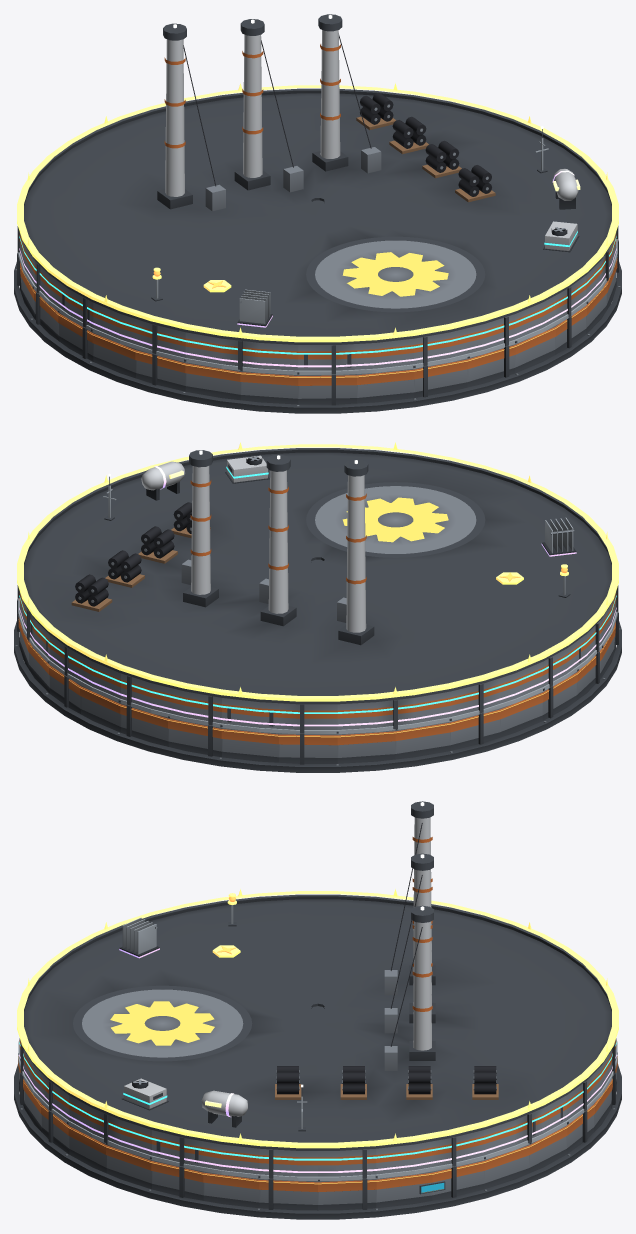
Rendered from carbon_works_xl.glb.
3 renders of one model, top to bottom at view 1: azimuth 30°, elevation 25°; view 2: azimuth 150°, elevation 25°; view 3: azimuth 270°, elevation 25°, orthographic.
Visible parts, largest first — view 1: Roof, Base, L4, Wall_21, Wall_20, Wall_22, Wall_19, Wall_23, Wall_18, Wall_24, Upper_20, Upper_22 (+18 smaller); view 2: Roof, Base, L4, Wall_10, Wall_11, Wall_09, Wall_12, Wall_08, Wall_13, Wall_07, Upper_10, Upper_11 (+21 smaller); view 3: Roof, Base, L4, Wall_00, Wall_31, Wall_30, Wall_01, Wall_29, Wall_02, Upper_00, Upper_31, Wall_28 (+16 smaller).
Boxes of the visible parts, x1=… form: Roof: x1=23, y1=14, x2=612, y2=344; Base: x1=14, y1=262, x2=621, y2=413; L4: x1=237, y1=168, x2=580, y2=327; Wall_21: x1=298, y1=374, x2=356, y2=405; Wall_20: x1=240, y1=370, x2=298, y2=404; Wall_22: x1=357, y1=368, x2=414, y2=403; Wall_19: x1=185, y1=362, x2=240, y2=400; Wall_23: x1=414, y1=358, x2=467, y2=397; Wall_18: x1=135, y1=349, x2=185, y2=391; Wall_24: x1=467, y1=344, x2=515, y2=387; Upper_20: x1=240, y1=341, x2=298, y2=370; Upper_22: x1=357, y1=338, x2=413, y2=369; Roof: x1=23, y1=448, x2=612, y2=704; Base: x1=14, y1=621, x2=621, y2=772; L4: x1=141, y1=461, x2=576, y2=556; Wall_10: x1=279, y1=733, x2=337, y2=764; Wall_11: x1=337, y1=730, x2=395, y2=763; Wall_09: x1=221, y1=728, x2=278, y2=762; Wall_12: x1=395, y1=721, x2=450, y2=759; Wall_08: x1=168, y1=716, x2=221, y2=757; Wall_13: x1=450, y1=708, x2=500, y2=750; Wall_07: x1=120, y1=703, x2=168, y2=746; Upper_10: x1=279, y1=703, x2=337, y2=733; Upper_11: x1=337, y1=700, x2=395, y2=729; Roof: x1=23, y1=801, x2=612, y2=1150; Base: x1=14, y1=1064, x2=621, y2=1219; L4: x1=119, y1=917, x2=247, y2=1127; Wall_00: x1=318, y1=1178, x2=376, y2=1210; Wall_31: x1=259, y1=1178, x2=317, y2=1210; Wall_30: x1=203, y1=1171, x2=259, y2=1208; Wall_01: x1=376, y1=1171, x2=432, y2=1208; Wall_29: x1=151, y1=1160, x2=203, y2=1200; Wall_02: x1=432, y1=1160, x2=484, y2=1200; Upper_00: x1=318, y1=1149, x2=376, y2=1178; Upper_31: x1=259, y1=1149, x2=317, y2=1178; Wall_28: x1=106, y1=1143, x2=151, y2=1189.
Size of the model in its own units: 23.15 by 10.29 by 23.15.
